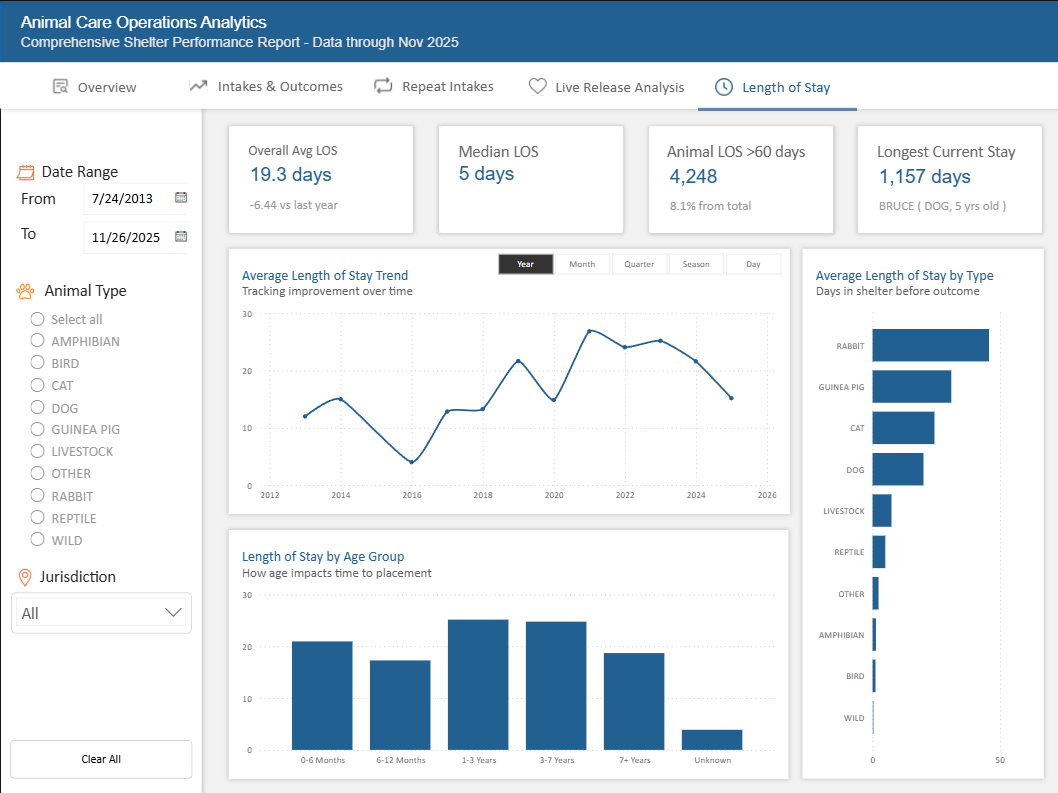

The dashboard page shown, as its layout file describes it:
{"tool":"powerbi","page":{"name":"Length of Stay","canvas":[1200,900],"ordinal":4},"visuals":[{"type":"shape","box":[0,65.6,228.9,834.4],"z":0},{"type":"shape","box":[0,9.9,1280.5,113.1],"z":1000},{"type":"shape","box":[0,0.8,1200,69.2],"z":2000},{"type":"textbox","box":[18.4,9.9,686.9,33.9],"z":3000},{"type":"textbox","box":[18.4,34.6,668.6,34.6],"z":4000},{"type":"slicer","fields":{"Values":["dataset.Intake Date"]},"box":[81.8,196.4,134.5,102.7],"z":5000},{"type":"textbox","box":[11.8,178.2,127.3,32.7],"z":6000},{"type":"image","box":[18.2,184.5,20,20],"z":7000},{"type":"textbox","box":[18.9,207.8,63.3,33.3],"z":8000},{"type":"textbox","box":[17.8,247.8,64.4,33.3],"z":9000},{"type":"listSlicer","fields":{"Values":["dataset.Animal Type"]},"box":[28.9,344.4,187.8,280],"z":10000},{"type":"textbox","box":[18.4,312.3,130,32.5],"z":11000},{"type":"image","box":[18.9,318.9,20,20],"z":12000},{"type":"textbox","box":[17.8,636.7,117.8,32.2],"z":13000},{"type":"image","box":[18.9,643.3,20,20],"z":14000},{"type":"slicer","fields":{"Values":["dataset.Jurisdiction"]},"box":[12.5,670,203.8,46],"z":15000},{"type":"actionButton","box":[11.3,836.7,206.3,43.8],"z":16000},{"type":"actionButton","box":[19,70,180,53],"z":17000},{"type":"actionButton","box":[198.8,70,200,52.5],"z":18000},{"type":"shape","box":[970,143,209,121],"z":20000},{"type":"shape","box":[733,143,209,121],"z":21000},{"type":"shape","box":[496,143,209,121],"z":22000},{"type":"shape","box":[258.2,142.9,208.6,121],"z":23000},{"type":"cardVisual","fields":{"Data":["dataset.Median LOS"]},"box":[494.4,143.3,210,121],"z":24000},{"type":"cardVisual","fields":{"Data":["dataset.LOS >60 days"]},"box":[733,144,208,121],"z":25000},{"type":"cardVisual","fields":{"Data":["dataset.Longest Current Stay formatted"]},"box":[970,144,211,121],"z":26000},{"type":"cardVisual","title":"Total Intakes(YTD)","fields":{"Data":["dataset.Avg LOS formatted"]},"box":[258,143,209,121],"z":27000},{"type":"textbox","box":[275.6,155,180.9,33.9],"z":28000},{"type":"textbox","box":[513,155.5,176.7,33.9],"z":29000},{"type":"textbox","box":[749,155,177,35],"z":30000},{"type":"textbox","box":[986,155,177,35],"z":31000},{"type":"actionButton","box":[578.8,70,210,55],"z":32000},{"type":"actionButton","box":[788.8,70,180,55],"z":33000},{"type":"barChart","title":"Average Length of Stay by Type","fields":{"Category":["dataset.Animal Type"],"Y":["dataset.Avg Length of Stay"]},"box":[907.4,281.3,272.8,599.2],"z":34000},{"type":"columnChart","title":"Length of Stay by Age Group","fields":{"Y":["dataset.Avg Length of Stay"],"Category":["AgeGroupTable.Age Group"]},"box":[258.6,598.6,632.9,281.4],"z":35000},{"type":"lineChart","title":"Average Length of Stay Trend","fields":{"Category":["Date.YEAR"],"Y":["dataset.Avg Length of Stay"]},"box":[258.6,281.4,634.3,300],"z":36000},{"type":"actionButton","box":[398.8,70,180,52.5],"z":37000},{"type":"slicer","fields":{"Values":["DateParameters.DateParameters"]},"box":[537.1,280,370,35.7],"z":38000}]}

Visuals, with their boxes on the page's 1200x900 design canvas (x1, y1, x2, y2). These are canvas units, not pixel positions in the 1058x793 screenshot, which may show the page scaled, cropped or inside an application window:
shape: 0/66/229/900
shape: 0/10/1280/123
shape: 0/1/1200/70
textbox: 18/10/705/44
textbox: 18/35/687/69
slicer - dataset.Intake Date: 82/196/216/299
textbox: 12/178/139/211
image: 18/184/38/204
textbox: 19/208/82/241
textbox: 18/248/82/281
listSlicer - dataset.Animal Type: 29/344/217/624
textbox: 18/312/148/345
image: 19/319/39/339
textbox: 18/637/136/669
image: 19/643/39/663
slicer - dataset.Jurisdiction: 12/670/216/716
actionButton: 11/837/218/880
actionButton: 19/70/199/123
actionButton: 199/70/399/122
shape: 970/143/1179/264
shape: 733/143/942/264
shape: 496/143/705/264
shape: 258/143/467/264
cardVisual - dataset.Median LOS: 494/143/704/264
cardVisual - dataset.LOS >60 days: 733/144/941/265
cardVisual - dataset.Longest Current Stay formatted: 970/144/1181/265
"Total Intakes(YTD)" cardVisual: 258/143/467/264
textbox: 276/155/456/189
textbox: 513/156/690/189
textbox: 749/155/926/190
textbox: 986/155/1163/190
actionButton: 579/70/789/125
actionButton: 789/70/969/125
"Average Length of Stay by Type" barChart: 907/281/1180/880
"Length of Stay by Age Group" columnChart: 259/599/892/880
"Average Length of Stay Trend" lineChart: 259/281/893/581
actionButton: 399/70/579/122
slicer - DateParameters.DateParameters: 537/280/907/316
